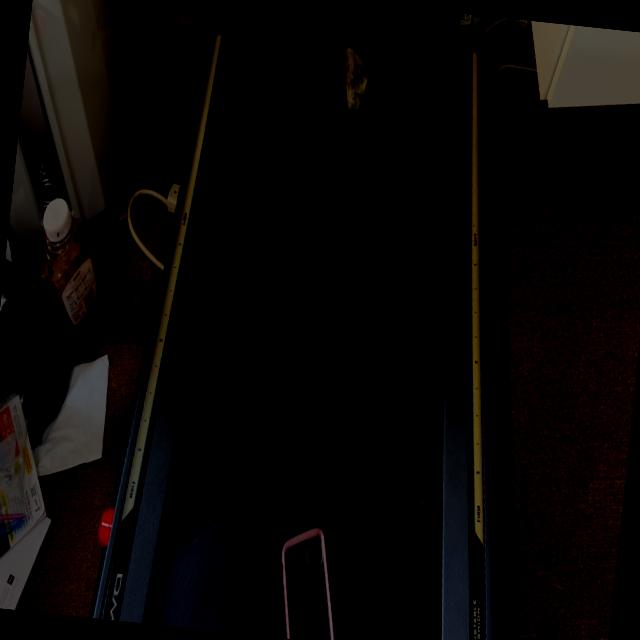Trash: (268, 519, 347, 640), (332, 45, 372, 120)
